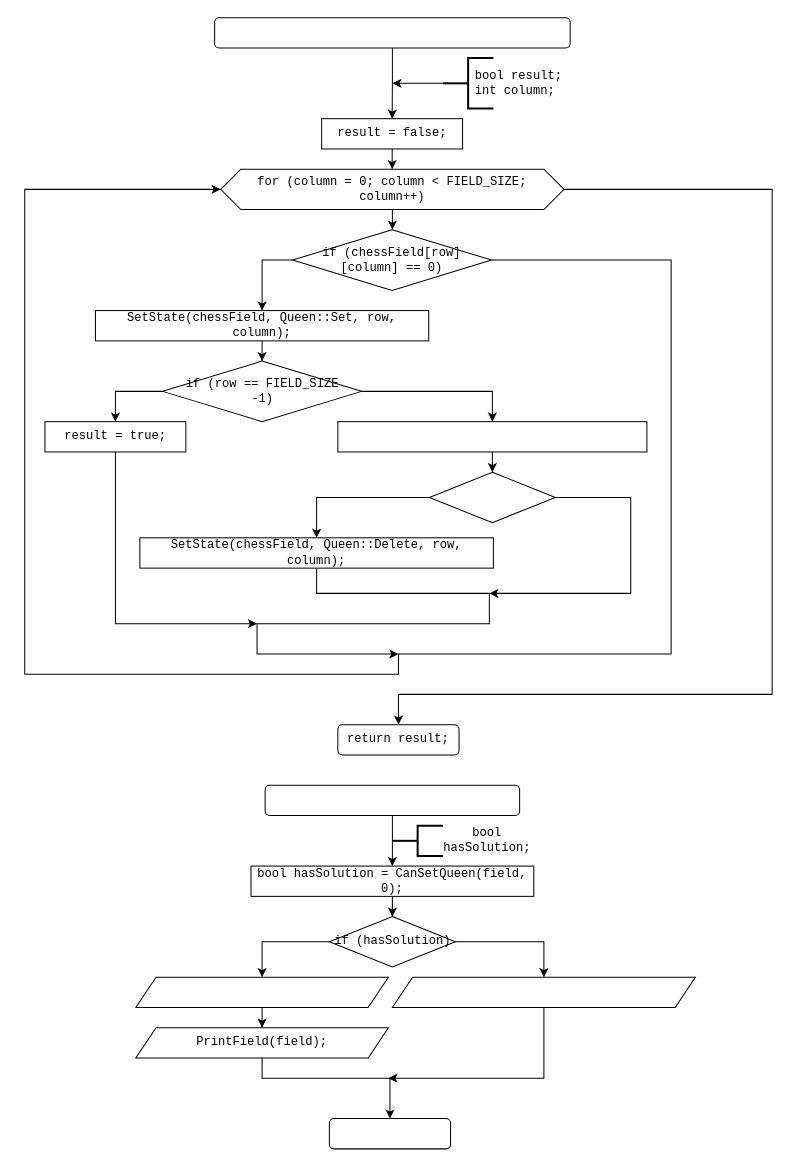
This 798x1167 diagram has some shape labels left out. Each missing label, with the centre of its shape:
bool CanSetQueen(int** chessField, int row): point (392, 32)
cout << "Final layout:" << endl;: point (261, 991)
cout << "The task has no solutions.";: point (543, 991)
if (!result): point (491, 497)
result = CanSetQueen(chessField, row + 1);: point (492, 436)
void ShowSolution(int** field): point (392, 800)
